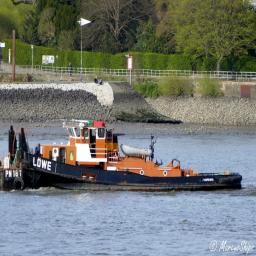tugboat: (8, 117, 246, 197)
